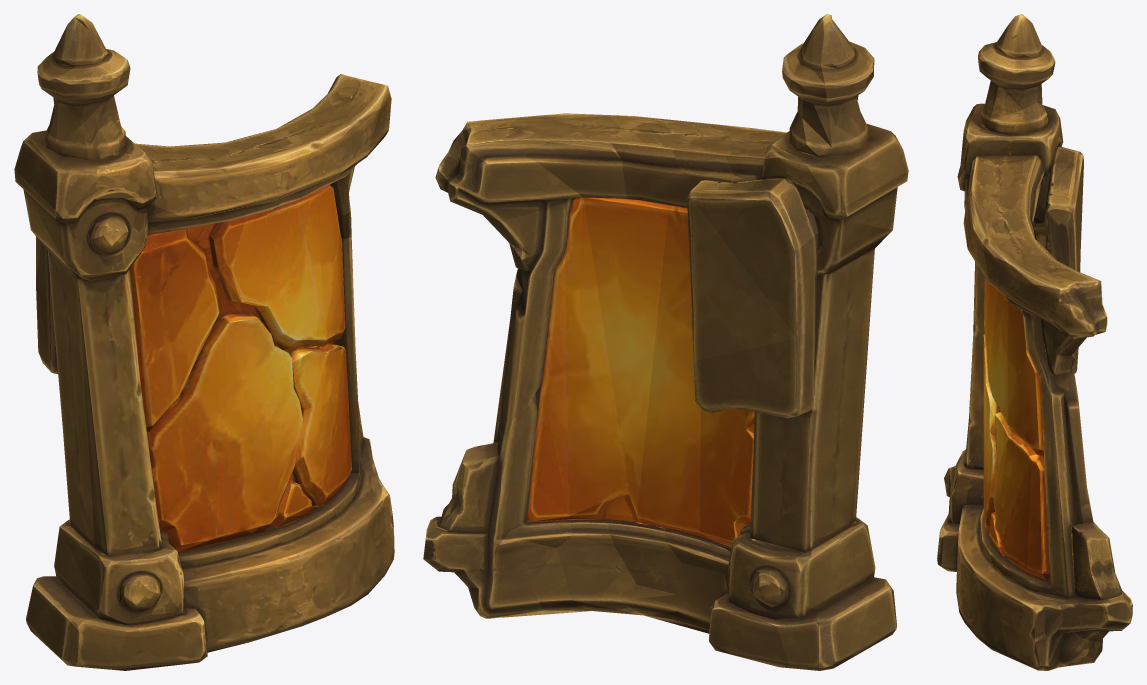
The model's file is lantern-shard.hq.glb.
3 renders of one model, left to right at view 1: azimuth 30°, elevation 25°; view 2: azimuth 150°, elevation 25°; view 3: azimuth 270°, elevation 25°, orthographic. The views are drawn at different scales.
Visible parts, largest first — view 1: output_unwrapped; view 2: output_unwrapped; view 3: output_unwrapped.
Part boxes in pixels (bbox=[...]): output_unwrapped: bbox=[14, 14, 394, 670]; output_unwrapped: bbox=[423, 14, 908, 670]; output_unwrapped: bbox=[937, 14, 1132, 670].
Size of the model in its own units: 1.24 by 1.9 by 0.6377.
Materials: 1 (1 with a texture image).
